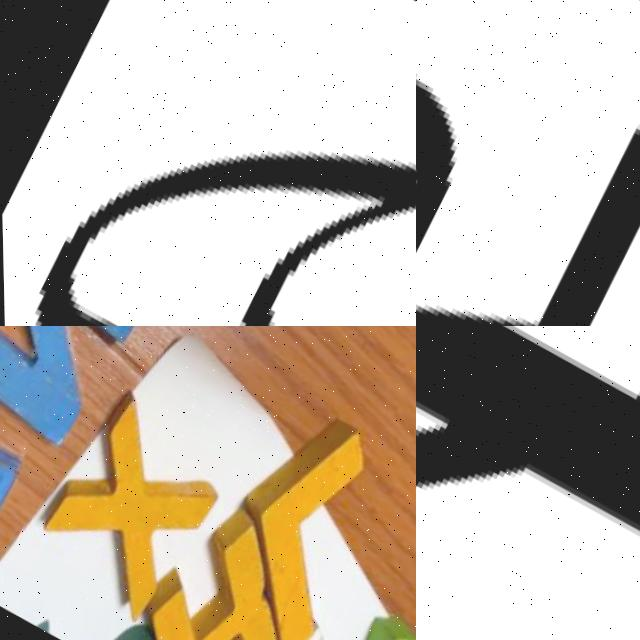5: (416, 0, 640, 326)
9: (0, 0, 416, 326)
L: (216, 409, 399, 640)
N: (0, 326, 160, 456)
R: (118, 502, 318, 640)
X: (416, 326, 640, 640), (23, 378, 231, 621)
